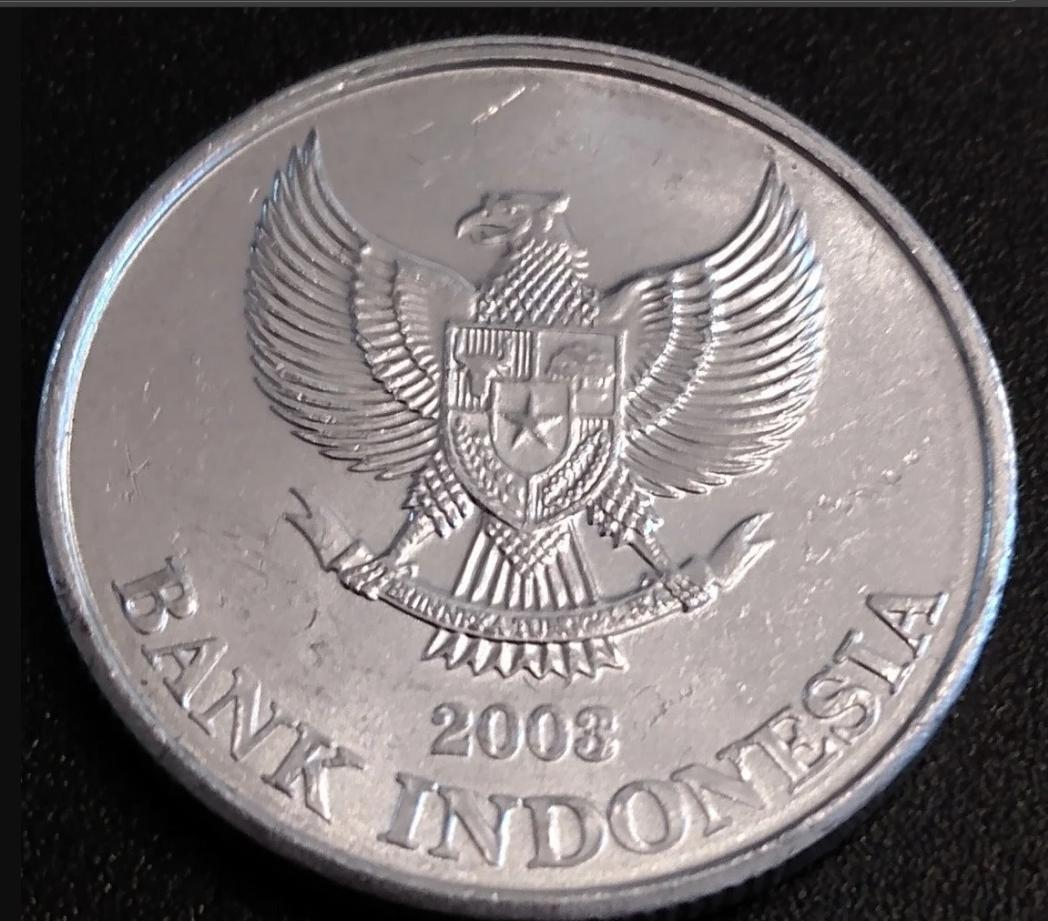coin_200_e2003: (30, 40, 1018, 913)
